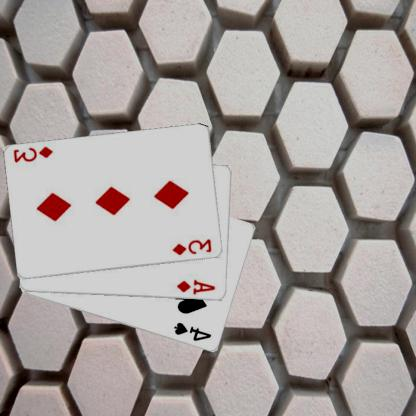3D: (172, 236, 215, 257), (13, 144, 56, 164)
4S: (174, 320, 214, 343)
AD: (177, 277, 218, 296)
